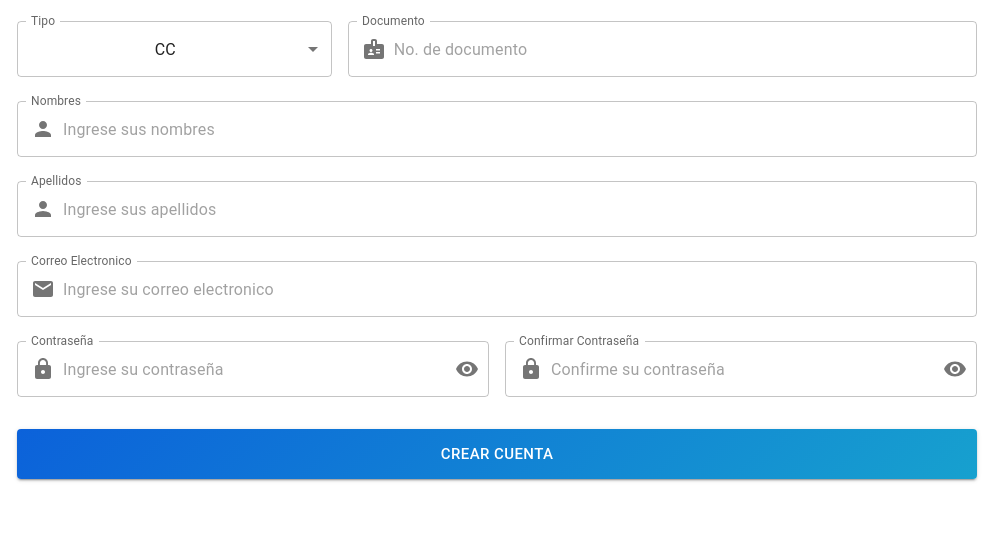
Scenario: RegisterForm › Validation › shows error for weak password
The width and height of the screenshot is (995, 542).
Step 1. Type "12345678" into the field labelled "Documento" → (685, 49), box [394,21,977,77]
Step 2. Type "Juan" into the field labelled "Nombres" → (520, 129), box [63,101,977,157]
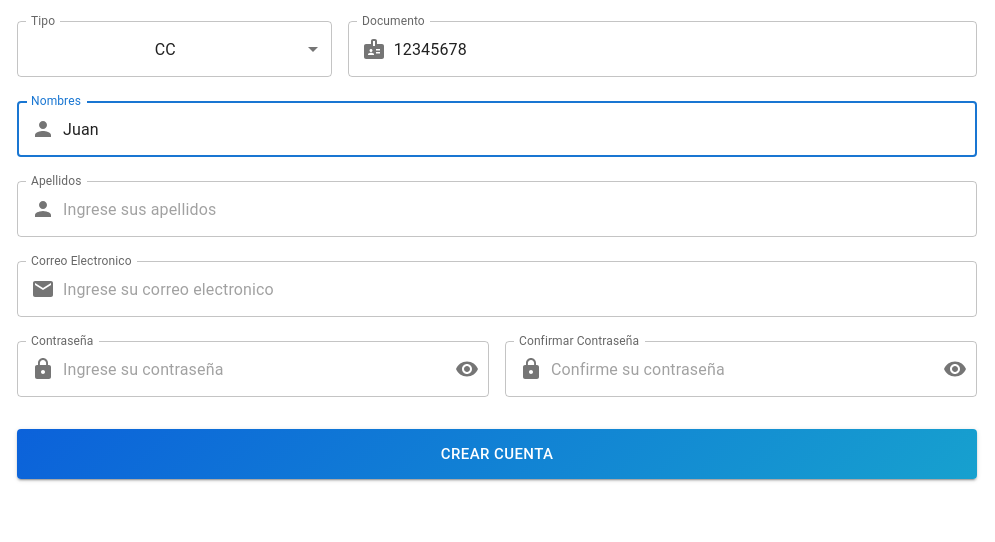
Step 3. Type "Perez" into the field labelled "Apellidos" → (520, 209), box [63,181,977,237]
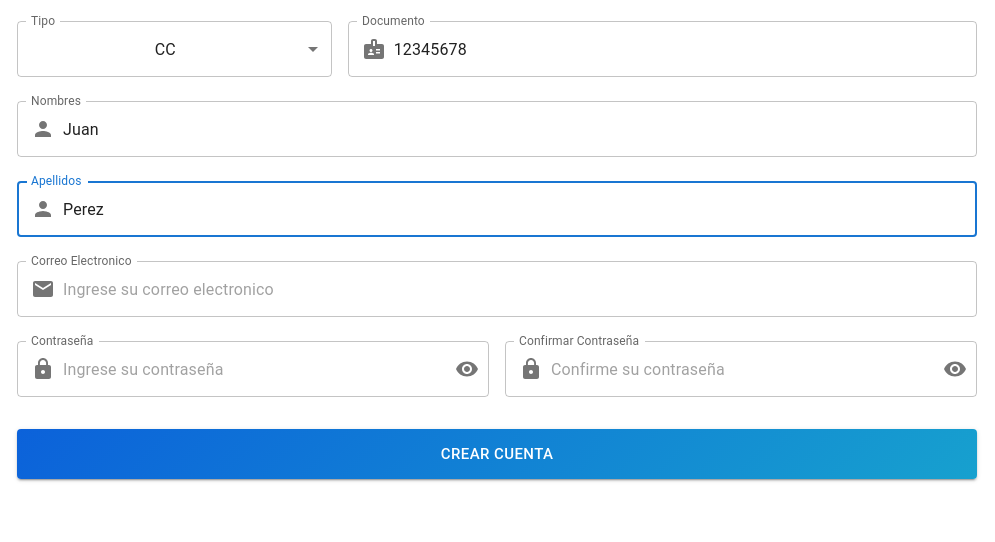
Step 4. Type "juan@test.com" into the field labelled "Correo Electronico" → (520, 289), box [63,261,977,317]
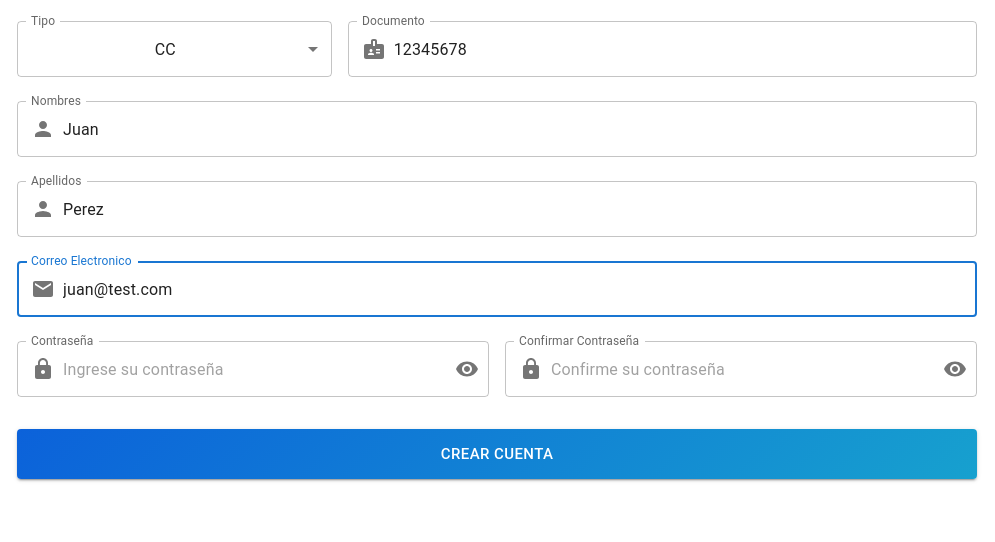
Step 5. Type "weakpass" into the password field with placeholder "Ingrese su contraseña" → (251, 369), box [63,341,439,397]
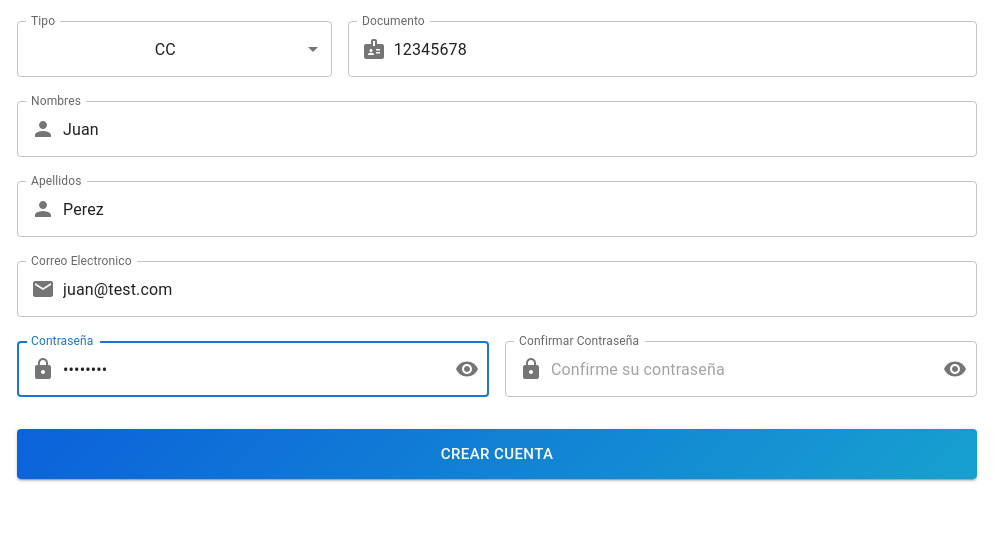
Step 6. Type "weakpass" into the password field with placeholder "Confirme su contraseña" → (739, 369), box [551,341,927,397]
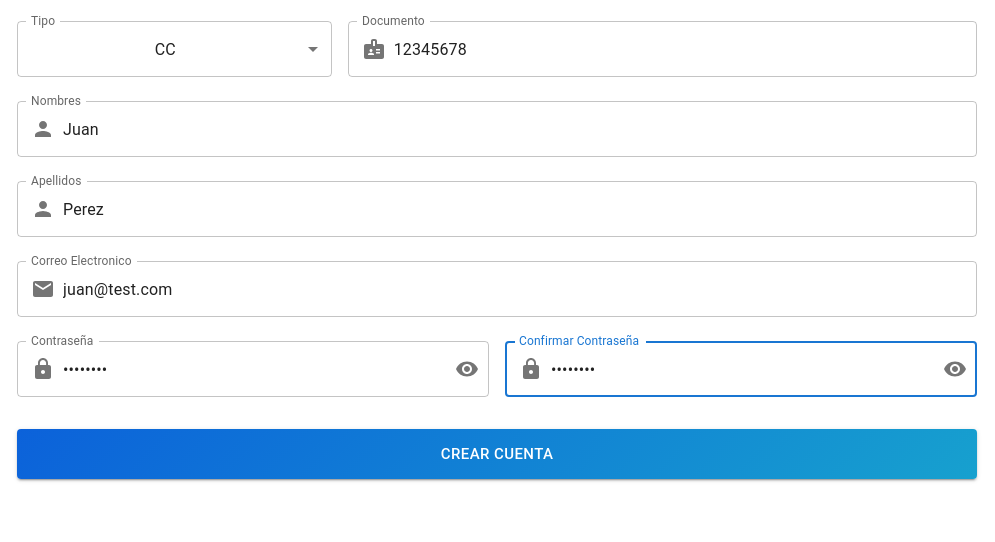
Step 7. Click the button "Crear Cuenta" → click(497, 454), box [17,429,977,479]
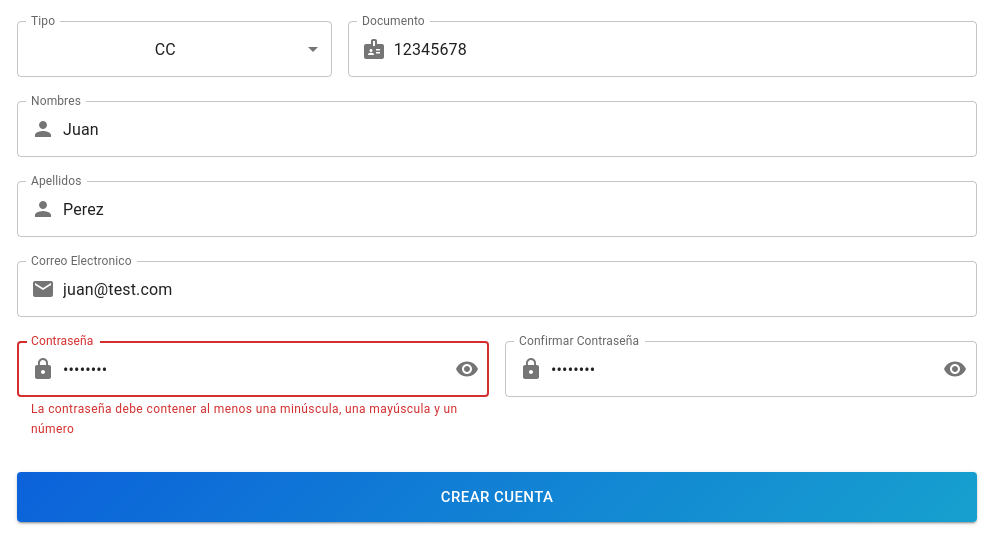
Expected: the text "debe contener al menos una min" is shown, [31,402,458,436]
